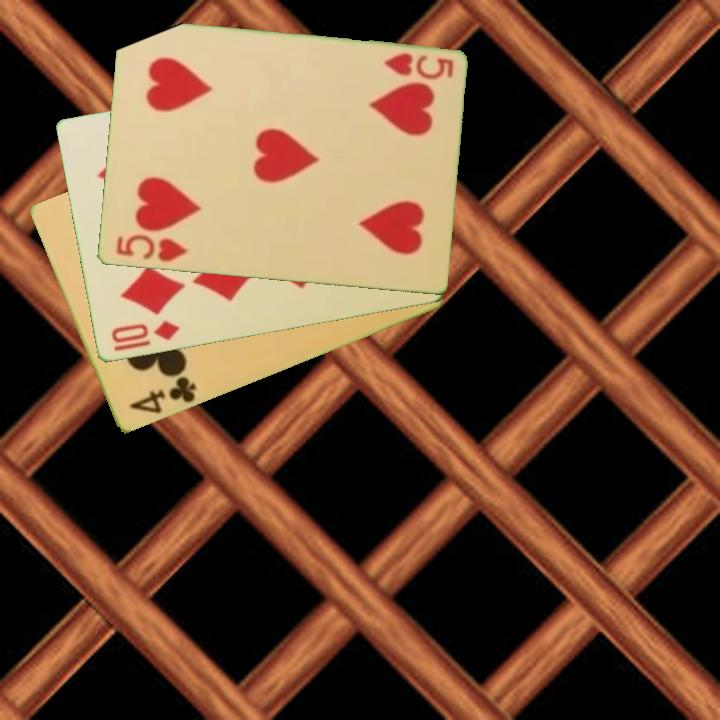10d: (107, 317, 182, 355)
4c: (125, 373, 199, 417)
5h: (112, 231, 190, 265), (379, 49, 456, 83)
